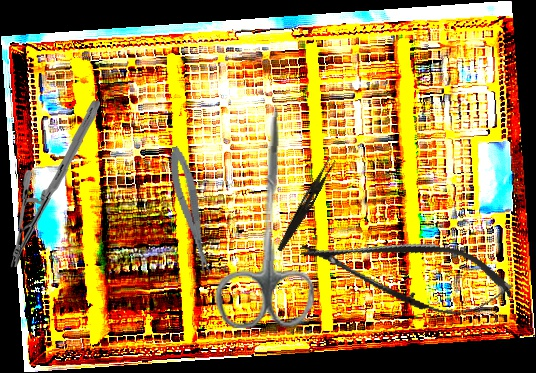Dressing Forceps: (275, 155, 337, 255)
Iris Scissors: (214, 104, 321, 331)
Micro Scissor: (294, 216, 518, 329), (164, 144, 216, 278)
Needle Holder: (4, 100, 106, 268)
